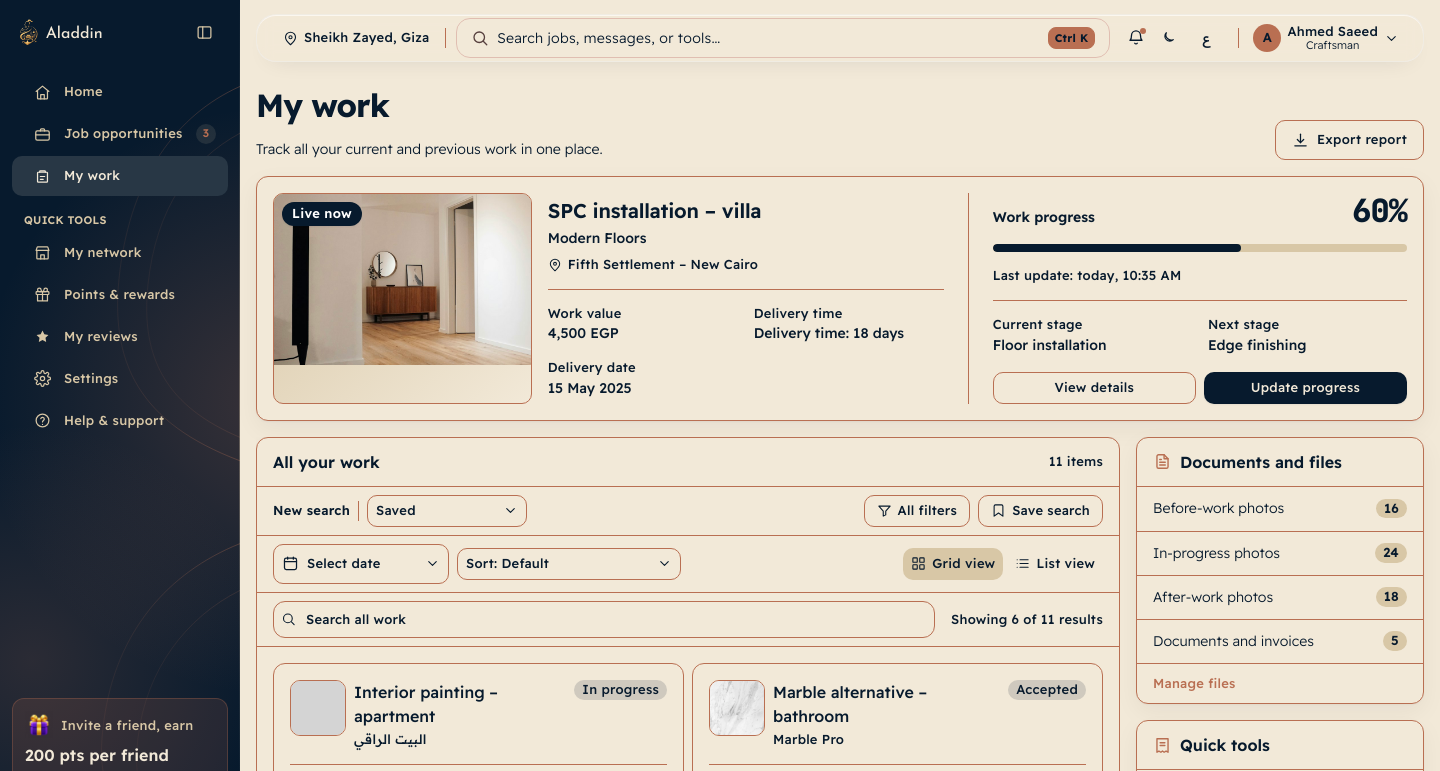
Test: InstallerMyWorkPreview › creates and reapplies a saved search
Step 1. Click the button "Save search" → (1041, 511), box [978,495,1103,527]
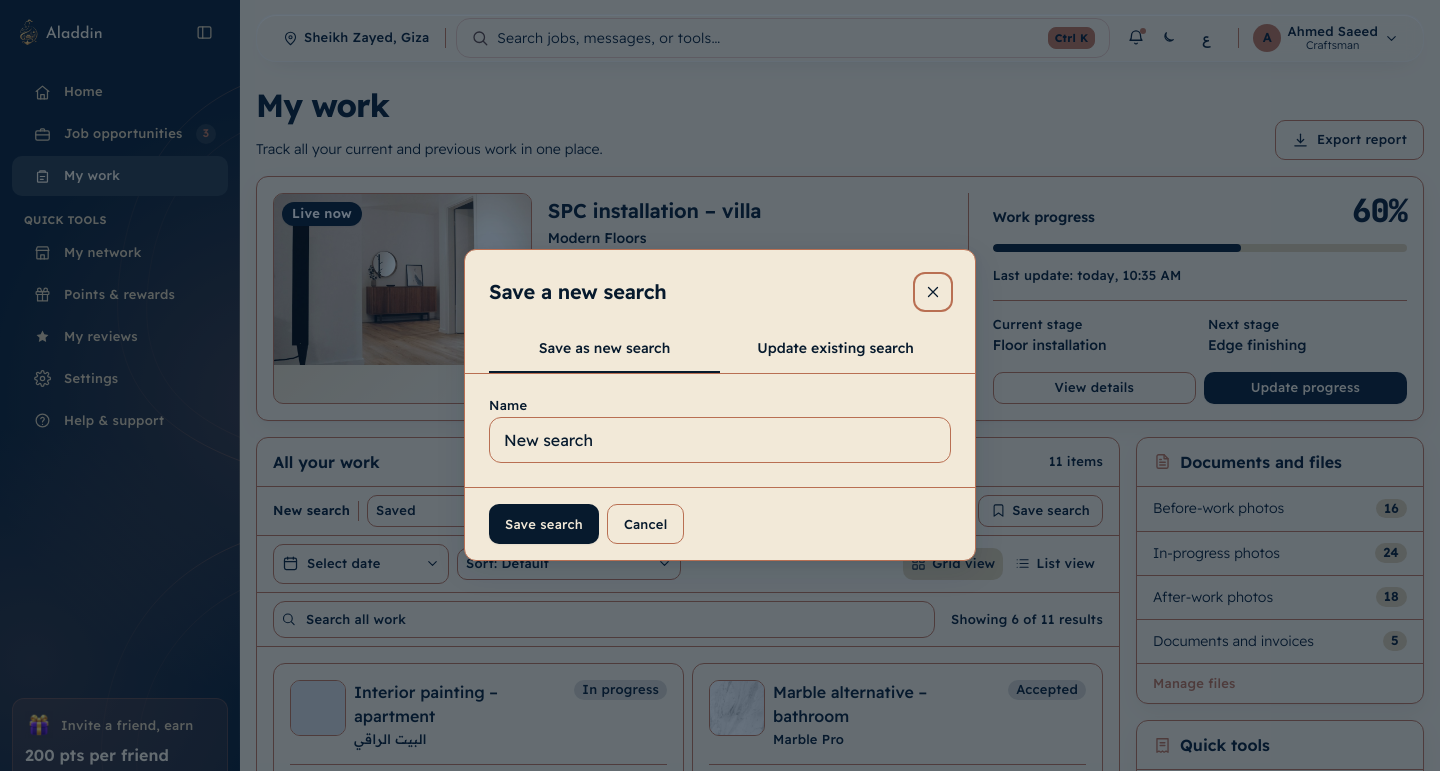
Step 2. Replace the text in the field named "Name" with "Priority work" → (720, 440), box [489,417,951,463]
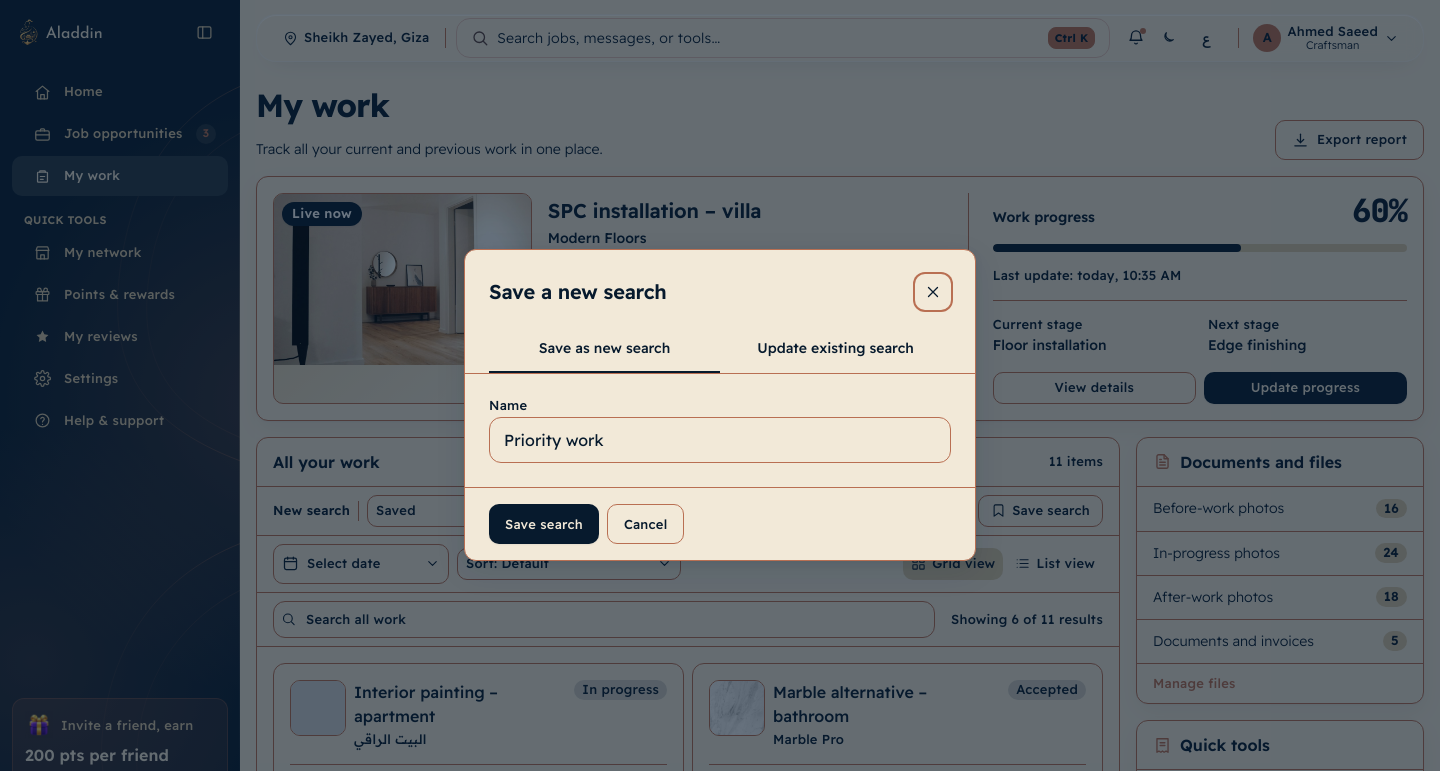
Step 3. Click the button "Save search" → (544, 524), box [489,504,599,544]
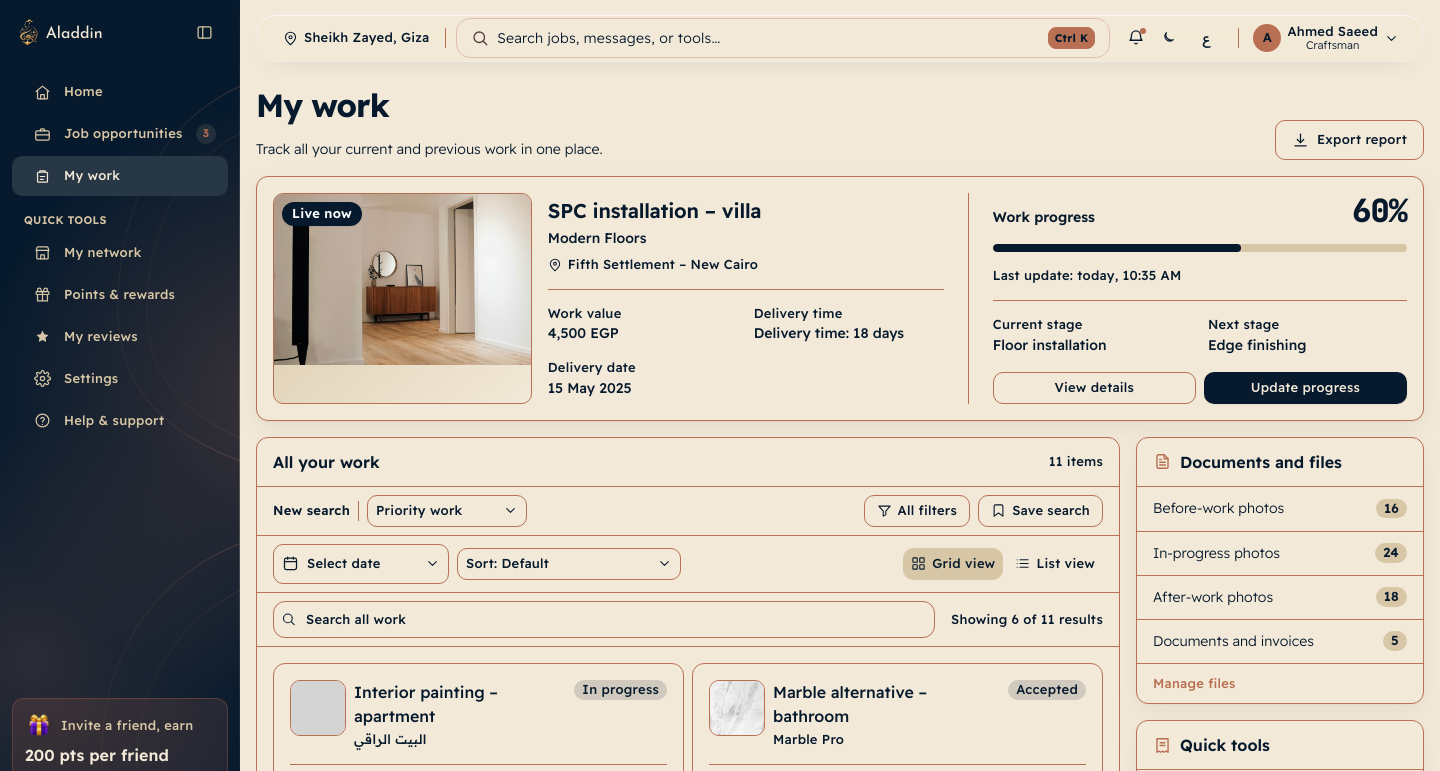
Step 4. Click the button with aria-label "Saved searches" → (447, 511), box [367,495,527,527]
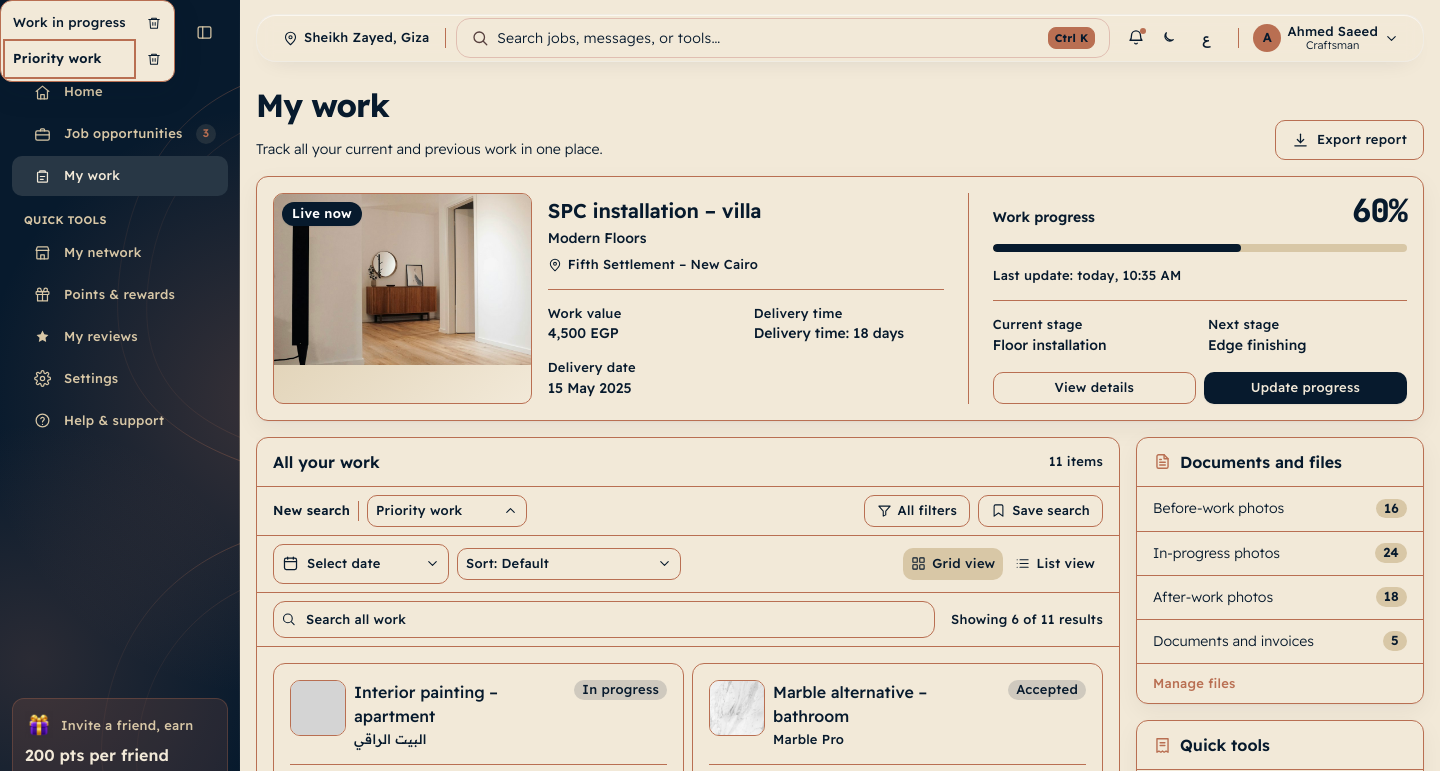
Now the option "Priority work" is shown, box [5,41,134,77]
Step 5. Click the button named "Delete: Priority work" → (154, 59), box [138,43,170,75]
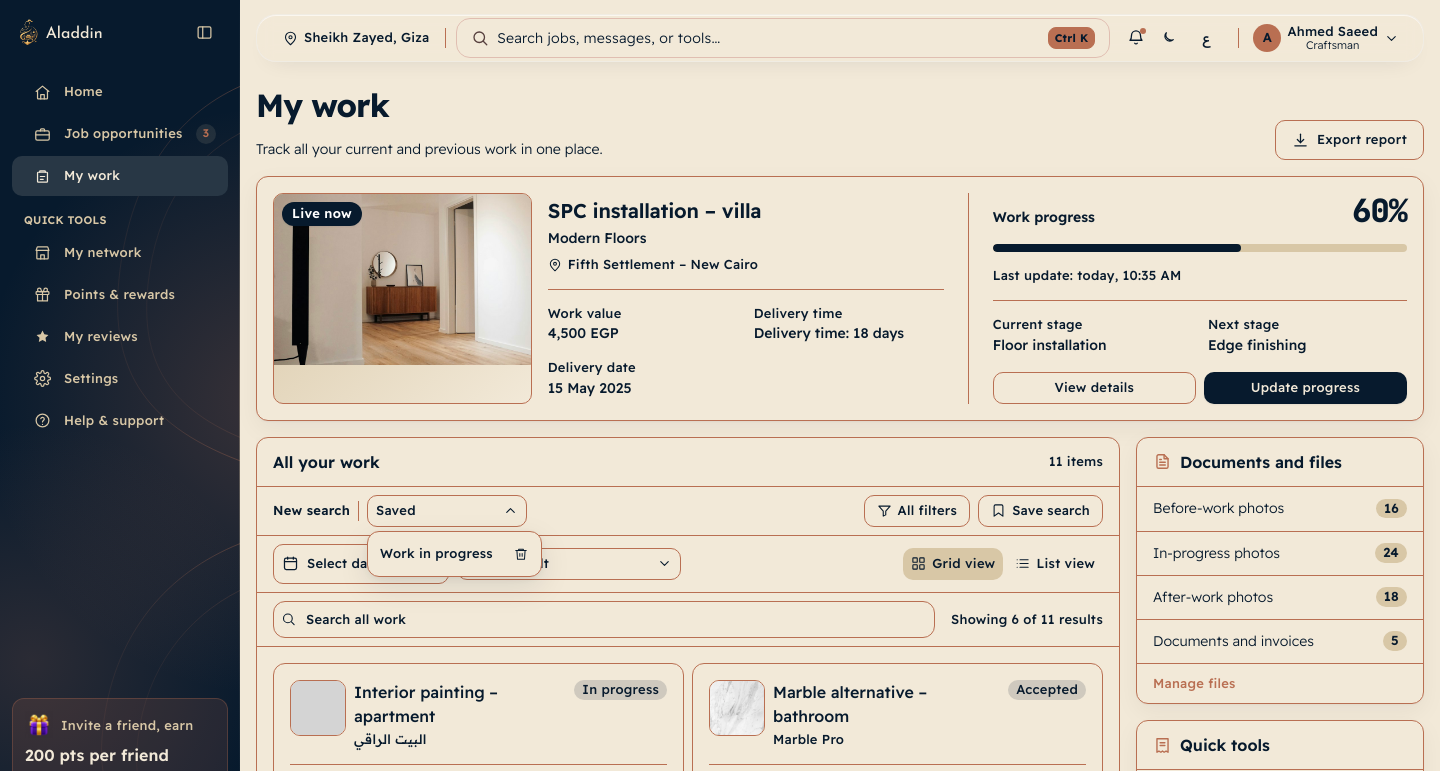
Now the option "Priority work" is gone
